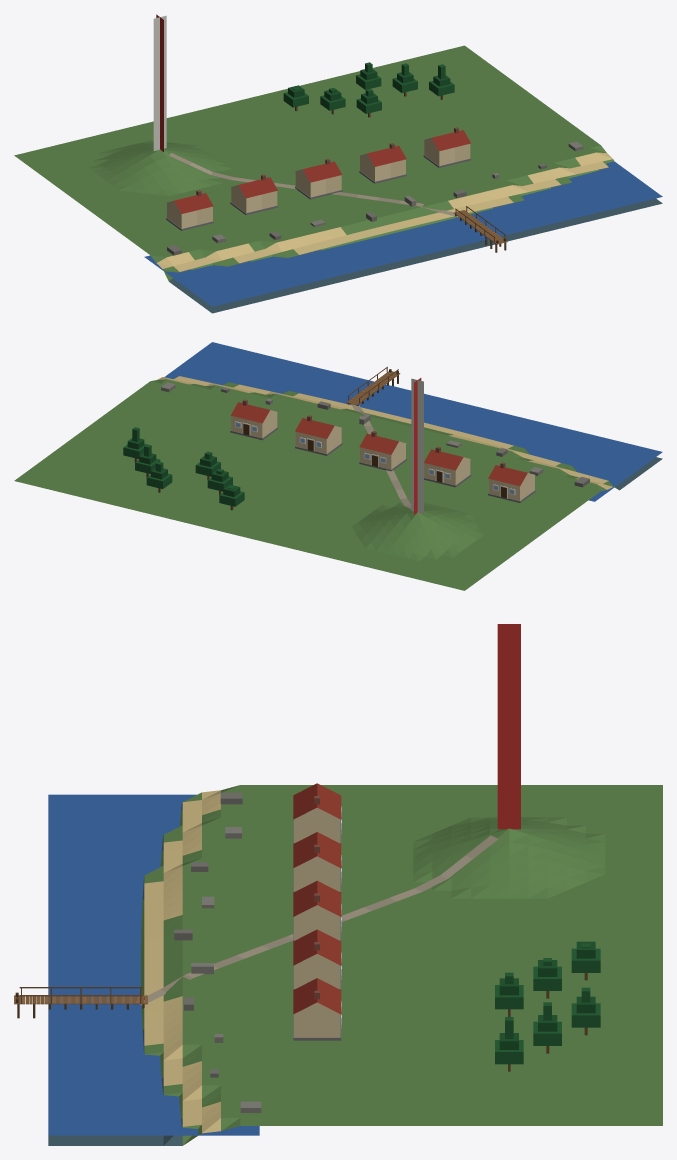
The model's file is scene_bad_v2.obj.
3 renders of one model, top to bottom at view 1: azimuth 30°, elevation 25°; view 2: azimuth 150°, elevation 25°; view 3: azimuth 270°, elevation 25°, orthographic. The views are drawn at different scales.
Parts seen in each view (by area): view 1: terrain, water, lighthouse_tower, house_2, house_5, house_3, house_4, house_1, path_1, pier_1, tree_6, tree_5 (+4 smaller); view 2: terrain, water, lighthouse_tower, house_2, house_5, house_4, house_1, house_3, pier_1, tree_4, path_1, tree_6 (+4 smaller); view 3: terrain, water, lighthouse_tower, house_5, house_4, house_1, house_3, house_2, path_1, pier_1, tree_6, tree_4 (+4 smaller).
Part boxes in pixels (x1,y1,x2,y2): terrain: (14,45,662,313); water: (144,161,662,306); lighthouse_tower: (153,14,166,151); house_2: (230,174,277,215); house_5: (423,127,471,167); house_3: (295,158,342,199); house_4: (359,143,406,183); house_1: (166,190,213,230); path_1: (169,153,458,216); pier_1: (454,206,507,252); tree_6: (429,64,454,99); tree_5: (392,63,417,96); terrain: (14,376,662,590); water: (164,342,662,501); lighthouse_tower: (411,378,423,514); house_2: (424,446,471,487); house_5: (230,399,277,440); house_4: (295,415,342,455); house_1: (488,462,535,502); house_3: (359,431,406,471); pier_1: (346,366,400,405); tree_4: (146,461,172,492); path_1: (351,404,411,508); tree_6: (123,427,146,462); terrain: (48,785,662,1145); water: (48,794,259,1135); lighthouse_tower: (497,624,520,829); house_5: (293,978,341,1040); house_4: (293,929,341,989); house_1: (293,783,341,843); house_3: (293,880,341,941); house_2: (293,832,341,892); path_1: (136,835,497,1005); pier_1: (14,987,147,1018); tree_6: (495,1017,523,1071); tree_4: (571,987,600,1035).
Size of the model in its own units: 84 by 29.2 by 67.57.
